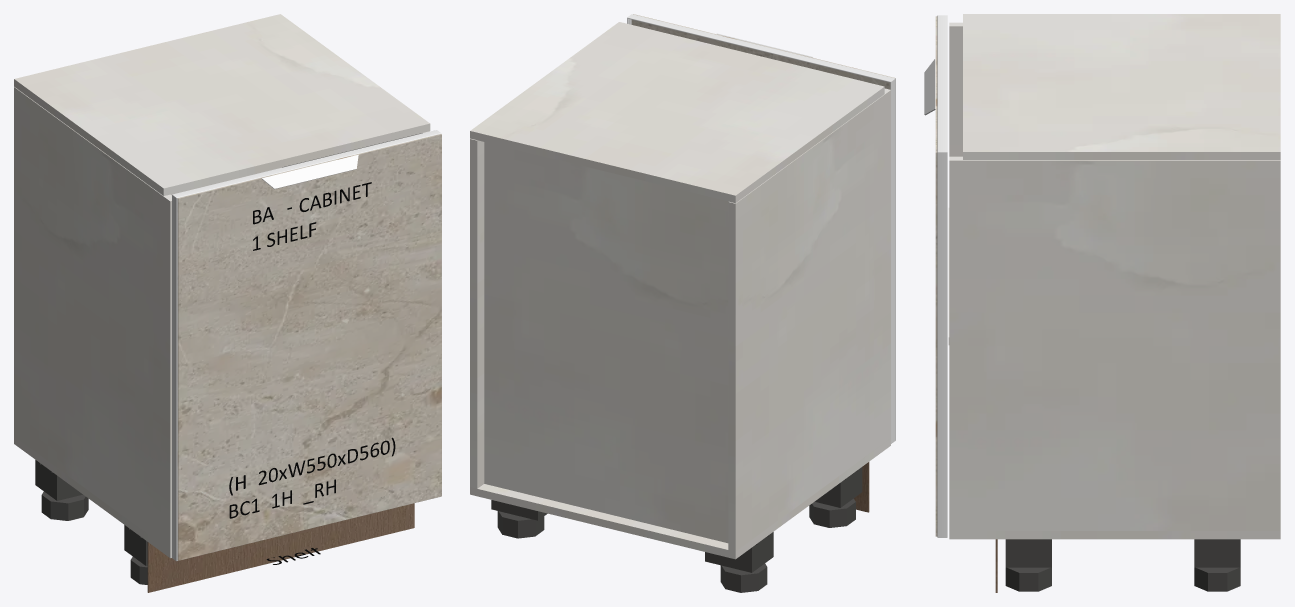
3 views of the same model, side by side, from view 1: azimuth 30°, elevation 25°; view 2: azimuth 150°, elevation 25°; view 3: azimuth 270°, elevation 25° (orthographic). The views are drawn at different scales.
Size of what is drawn, in the model's own units: 0.55 by 0.82 by 0.6.
Materials: 6 (3 with a texture image).
